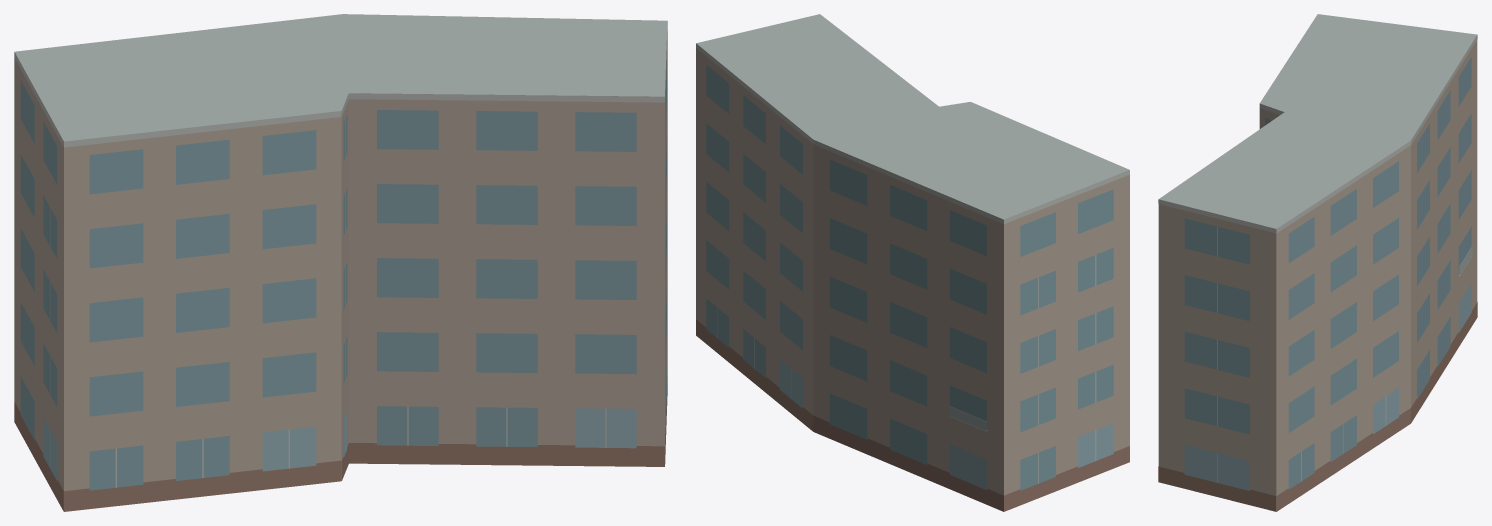
Rendered from survey-upis-32802036.glb.
The picture shows the model from 3 angles, left to right: view 1: azimuth 30°, elevation 25°; view 2: azimuth 150°, elevation 25°; view 3: azimuth 270°, elevation 25°; orthographic projection. The views are drawn at different scales.
Visible parts, largest first — view 1: survey-upis-32802036.tmp; view 2: survey-upis-32802036.tmp; view 3: survey-upis-32802036.tmp.
Part boxes in pixels (x1=…): survey-upis-32802036.tmp: x1=14, y1=14, x2=667, y2=511; survey-upis-32802036.tmp: x1=696, y1=14, x2=1129, y2=511; survey-upis-32802036.tmp: x1=1158, y1=14, x2=1477, y2=511.
Size of the model in its own units: 24.62 by 15.1 by 15.44.
